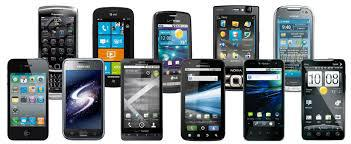Smartphone: (36, 8, 79, 97), (181, 59, 226, 141), (151, 8, 194, 89), (274, 4, 313, 92), (214, 6, 255, 86), (123, 57, 162, 137), (64, 59, 103, 136), (95, 8, 133, 87), (305, 59, 340, 141), (10, 62, 47, 138), (245, 62, 281, 139)
